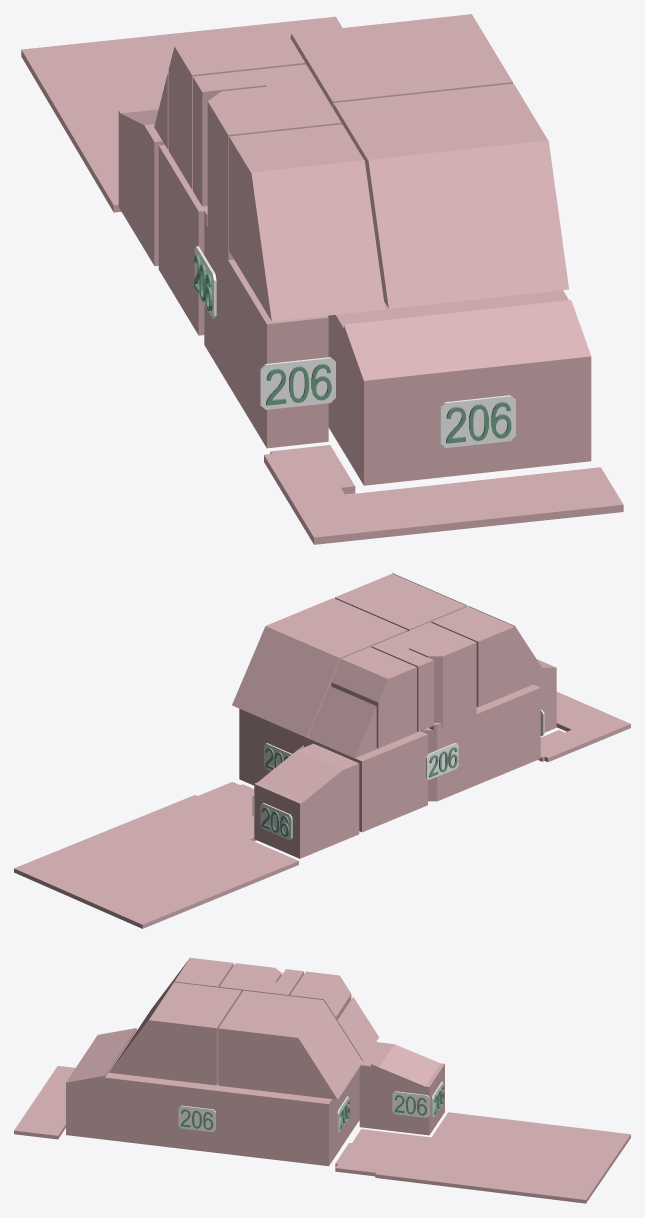
3 renders of one model, top to bottom at view 1: azimuth 30°, elevation 25°; view 2: azimuth 150°, elevation 25°; view 3: azimuth 270°, elevation 25°, orthographic. The views are drawn at different scales.
Parts seen in each view (by area): view 1: g_1, g_8, g_9, g_14, g_13, g_7, g_4, g_10, g_6, g_0, g_5, g_11 (+3 smaller); view 2: g_13, g_7, g_5, g_0, g_9, g_6, g_4, g_8, g_11, g_12, g_2, g_14 (+4 smaller); view 3: g_13, g_1, g_7, g_8, g_0, g_5, g_14, g_6, g_9, g_12, g_10, g_26 (+2 smaller).
Part boxes in pixels (bbox=[...]): g_1: bbox=[328, 290, 591, 485]; g_8: bbox=[333, 83, 568, 308]; g_9: bbox=[229, 124, 384, 321]; g_14: bbox=[264, 445, 623, 544]; g_13: bbox=[21, 16, 342, 212]; g_7: bbox=[290, 14, 512, 108]; g_4: bbox=[229, 261, 328, 448]; g_10: bbox=[193, 64, 341, 206]; g_6: bbox=[168, 34, 305, 189]; g_0: bbox=[158, 145, 207, 335]; g_5: bbox=[118, 105, 164, 266]; g_11: bbox=[207, 87, 277, 249]; g_13: bbox=[14, 782, 298, 928]; g_7: bbox=[232, 598, 407, 737]; g_5: bbox=[254, 743, 359, 858]; g_0: bbox=[239, 708, 427, 832]; g_9: bbox=[431, 606, 548, 707]; g_6: bbox=[331, 647, 416, 748]; g_4: bbox=[476, 684, 540, 783]; g_8: bbox=[335, 573, 467, 630]; g_11: bbox=[409, 634, 476, 722]; g_12: bbox=[308, 686, 376, 758]; g_2: bbox=[421, 708, 478, 801]; g_14: bbox=[538, 692, 630, 761]; g_13: bbox=[335, 1112, 630, 1203]; g_1: bbox=[66, 1028, 253, 1156]; g_7: bbox=[218, 990, 362, 1099]; g_8: bbox=[109, 982, 241, 1085]; g_0: bbox=[250, 1067, 359, 1166]; g_5: bbox=[359, 1042, 444, 1135]; g_14: bbox=[14, 1066, 75, 1139]; g_6: bbox=[290, 971, 351, 1020]; g_9: bbox=[135, 957, 233, 1033]; g_12: bbox=[337, 997, 378, 1061]; g_10: bbox=[219, 969, 303, 995]; g_26: bbox=[392, 1091, 429, 1117].
Bounding box in the file's own units: 11.95 × 5.36 × 23.2.
